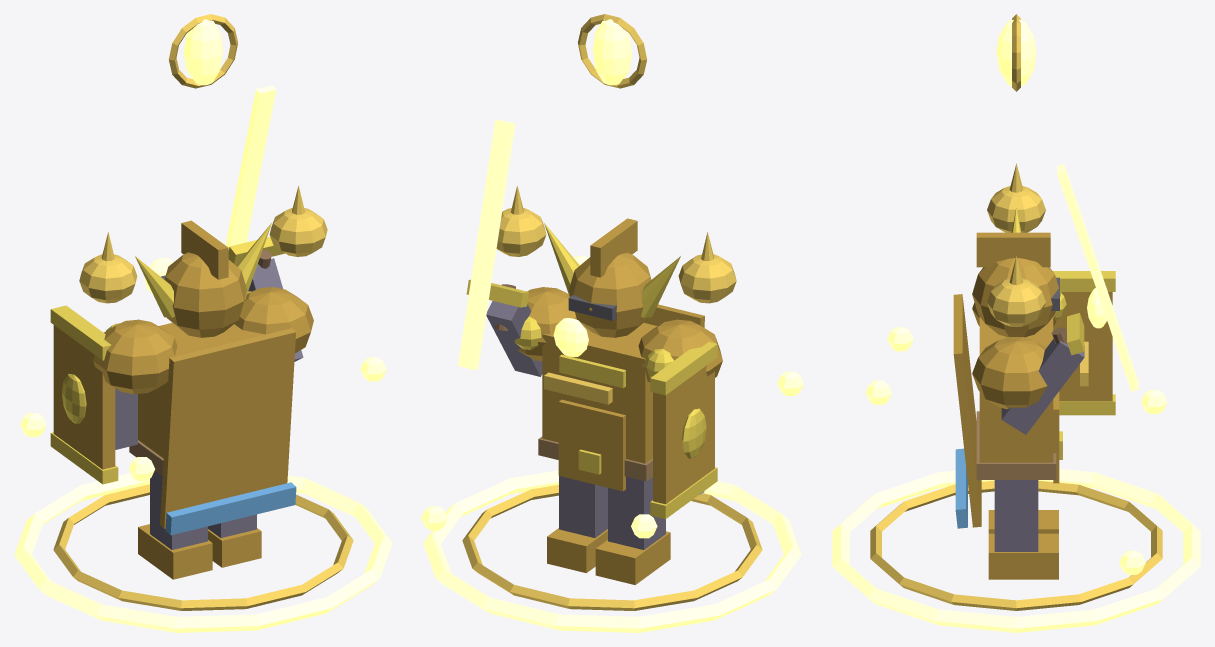
The model's file is hero_knight.glb.
3 renders of one model, left to right at view 1: azimuth 30°, elevation 25°; view 2: azimuth 150°, elevation 25°; view 3: azimuth 270°, elevation 25°, orthographic.
Parts seen in each view (by area): view 1: hero_knight; view 2: hero_knight; view 3: hero_knight.
Part boxes in pixels (<box>): hero_knight: <box>14,14,392,632</box>; hero_knight: <box>421,14,803,632</box>; hero_knight: <box>832,14,1200,632</box>.
Size of the model in its own units: 2.86 by 4.52 by 2.79.
